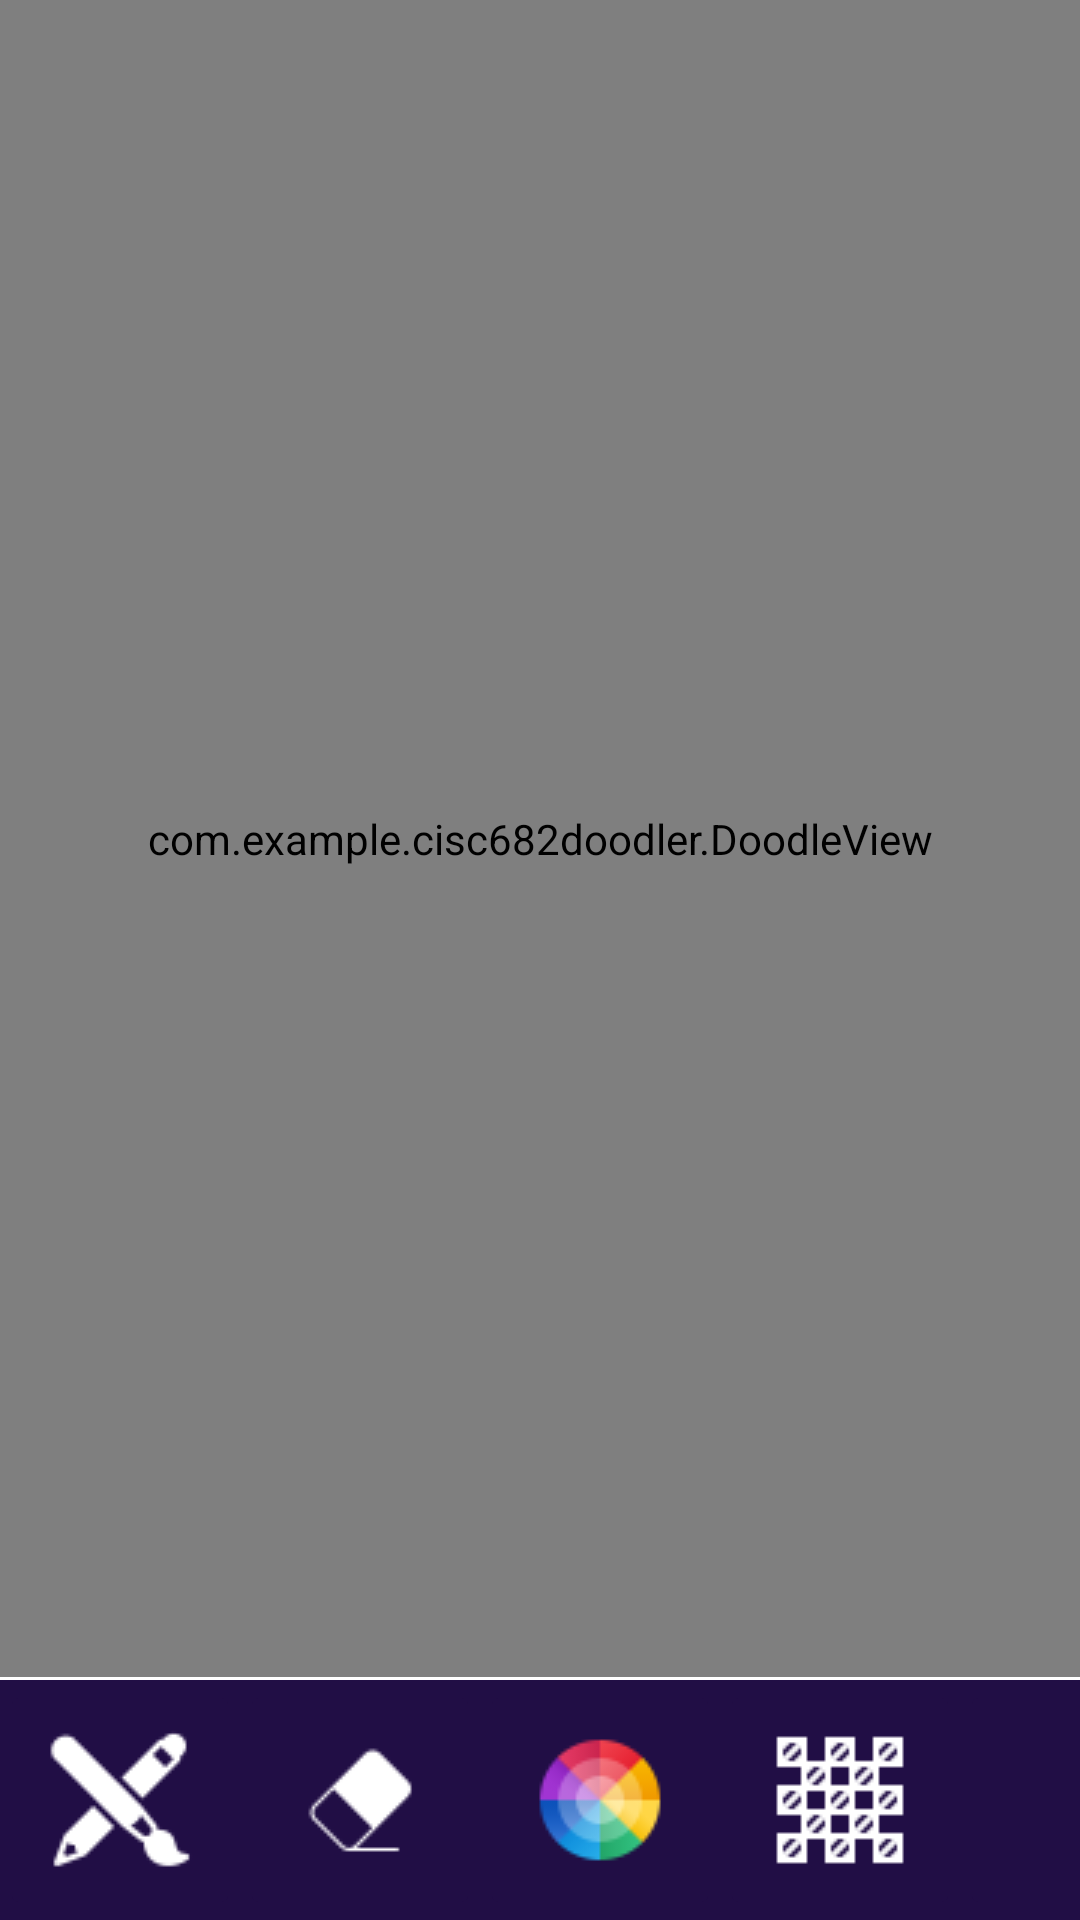

Where to tap for icons on this 1080w x 1920h app screen, as [x,y]:
brush: [120,1800]
erase: [360,1800]
opacity: [840,1800]
wheel: [600,1800]
